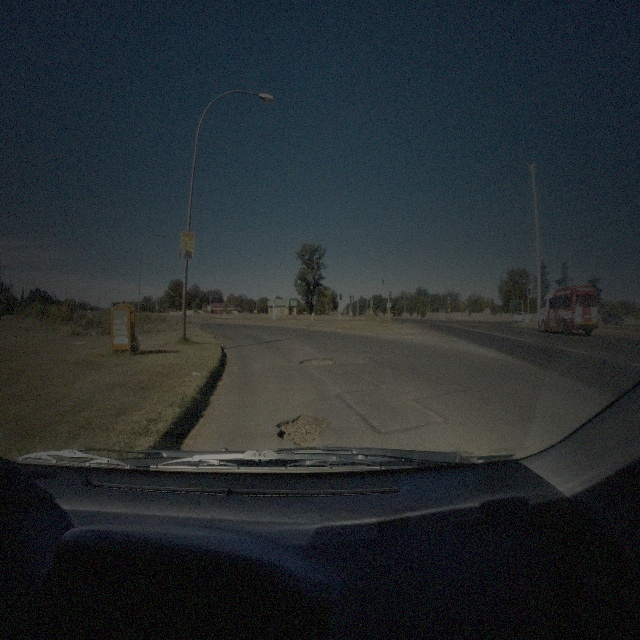pothole: (276, 410, 326, 446), (296, 354, 334, 367)
